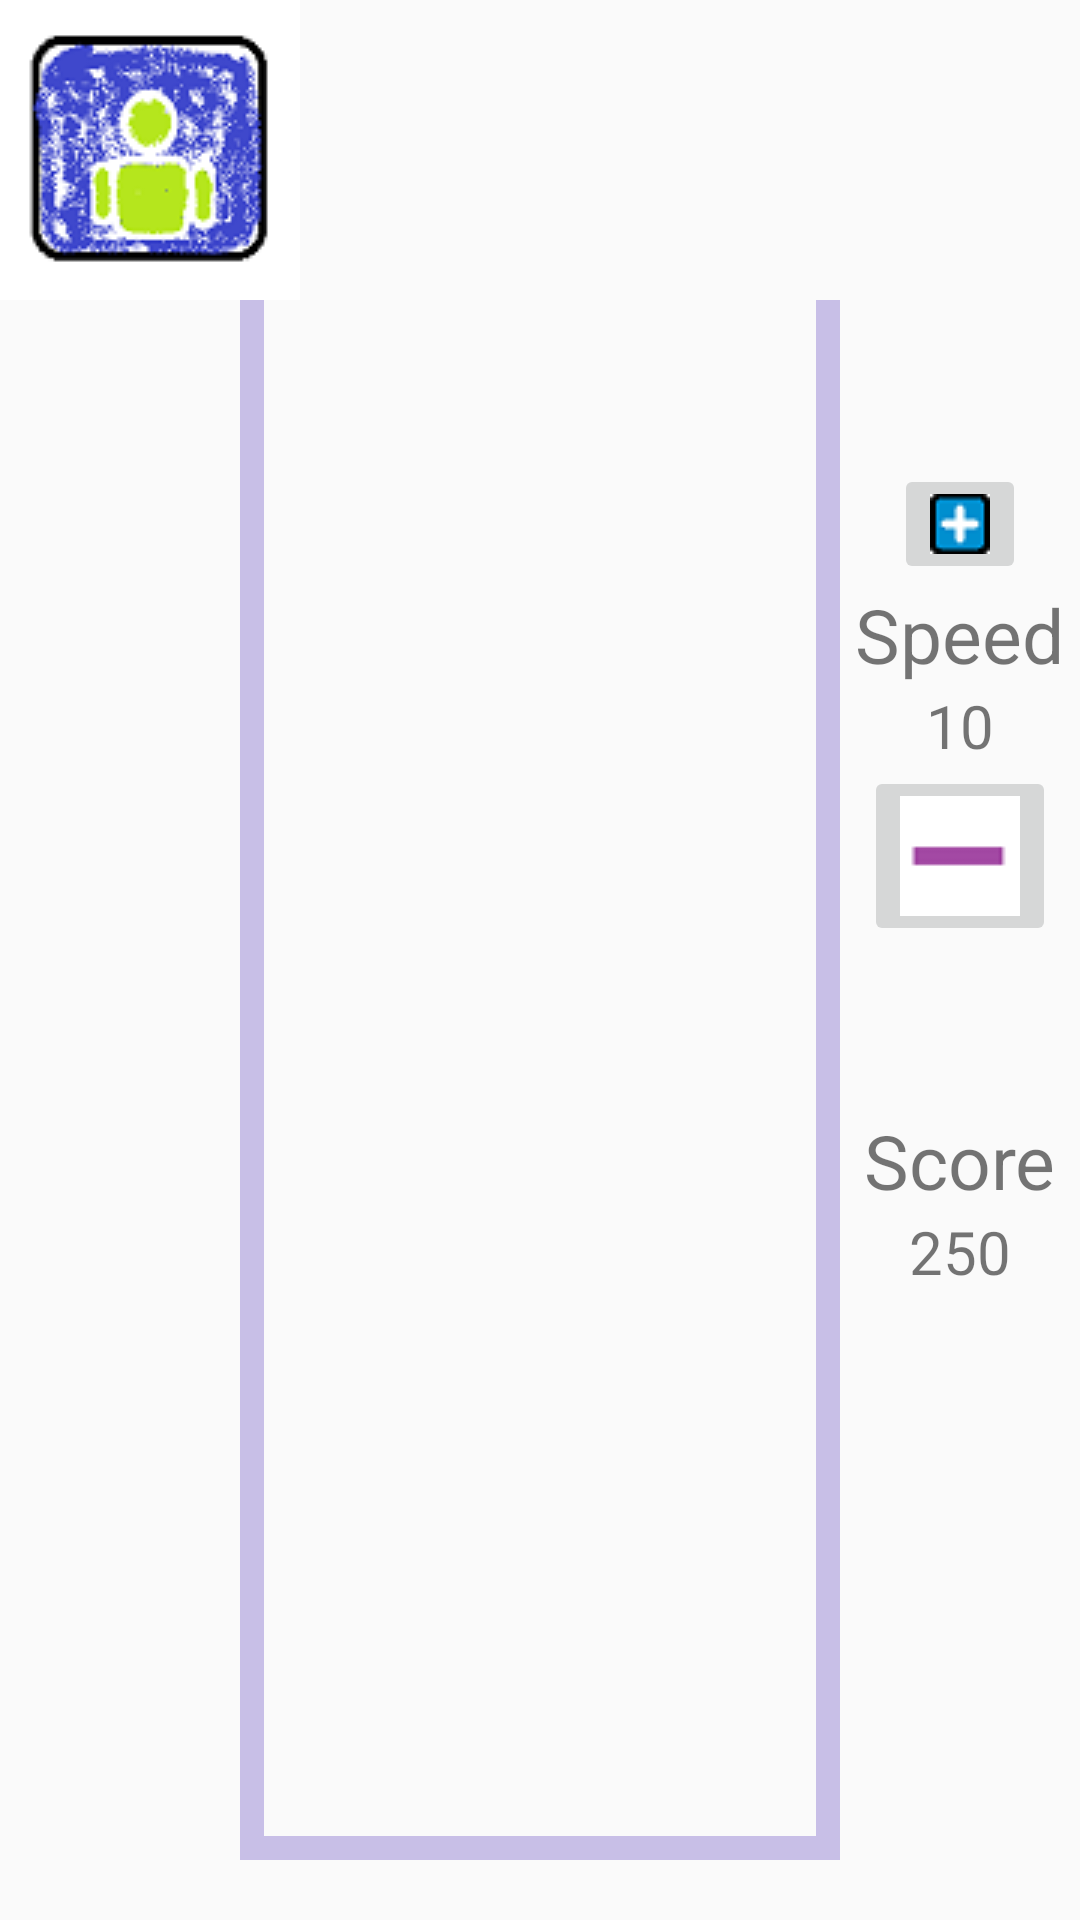

Icon click points for this 1080 × 1920 phone screenshot, format point (x, y):
gamer: point (148, 148)
